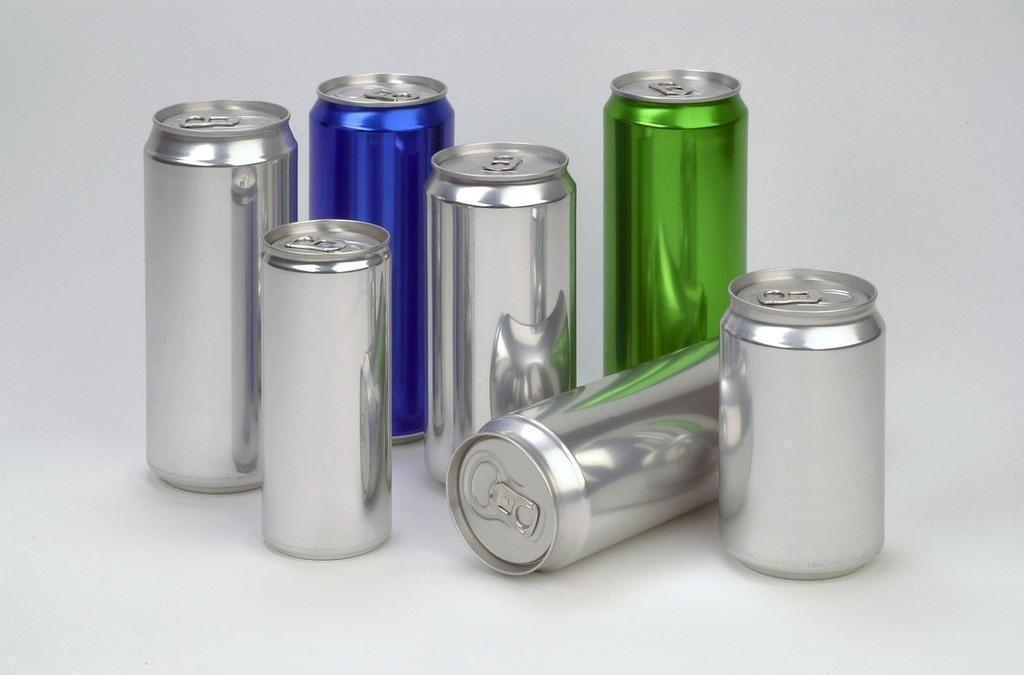tin can: (131, 94, 300, 492), (446, 355, 718, 576), (304, 62, 461, 442), (714, 266, 899, 581), (246, 217, 403, 562), (420, 145, 581, 423), (596, 60, 748, 349)
